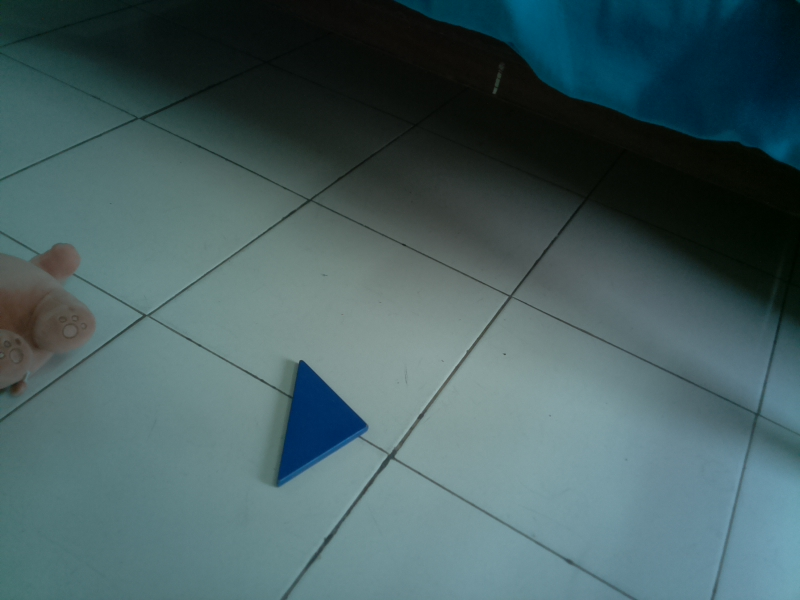Triangle: (271, 356, 373, 493)
